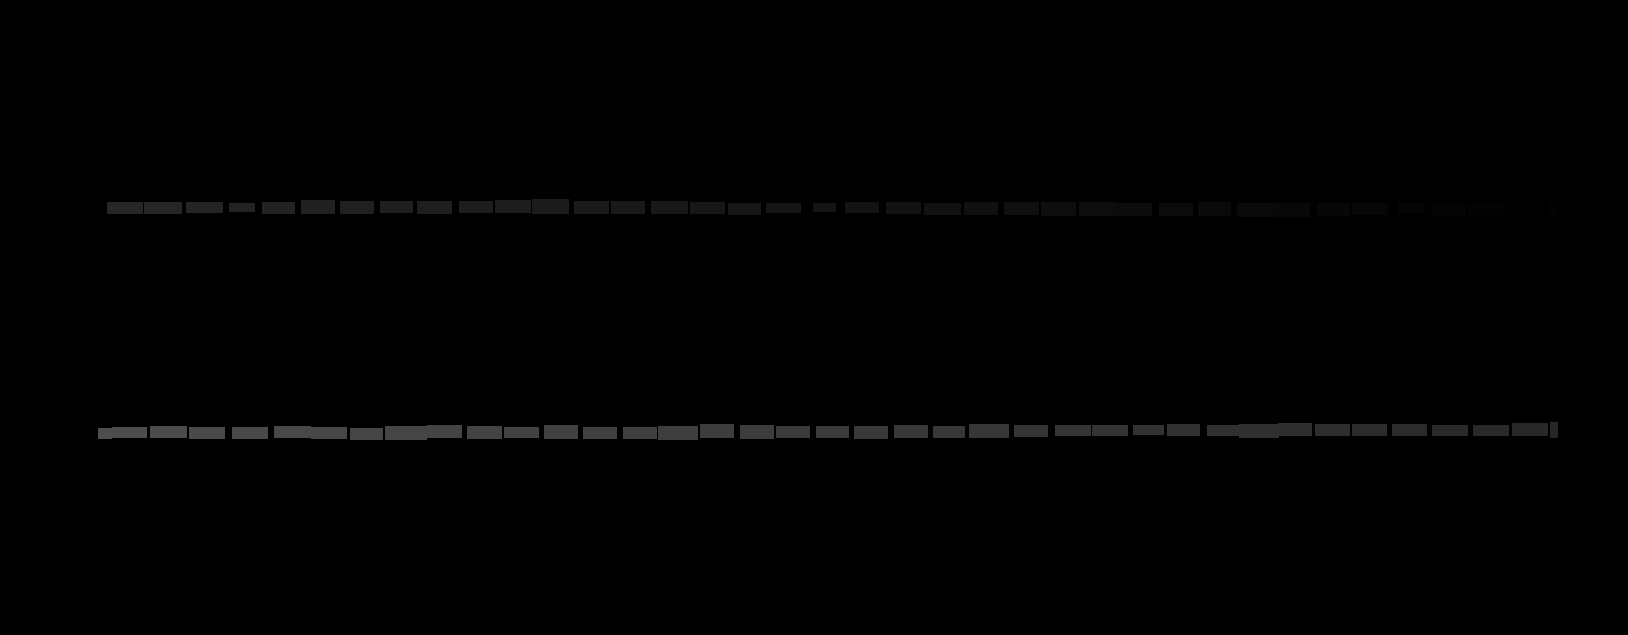light: (385, 426, 427, 440), (1239, 424, 1279, 438), (969, 424, 1009, 438), (532, 199, 569, 214), (658, 426, 698, 440), (1237, 203, 1275, 217), (1079, 202, 1117, 216), (1275, 203, 1310, 217), (651, 201, 688, 214), (1041, 202, 1076, 216), (301, 200, 335, 214), (700, 424, 734, 438), (544, 425, 578, 439), (1512, 423, 1548, 436), (1198, 202, 1231, 216), (740, 425, 774, 439), (1117, 203, 1152, 216), (1004, 202, 1039, 215), (574, 201, 609, 214), (495, 200, 531, 213), (427, 425, 462, 438), (1510, 202, 1544, 215), (1159, 203, 1193, 216), (964, 202, 998, 215), (924, 203, 961, 215), (610, 201, 645, 214), (417, 201, 452, 214), (340, 201, 374, 214), (144, 202, 182, 214), (1278, 423, 1312, 436), (894, 425, 928, 438), (467, 426, 501, 439), (274, 426, 311, 438), (150, 426, 187, 438), (1352, 203, 1388, 215), (107, 202, 143, 214), (232, 427, 268, 439), (189, 427, 225, 439), (1432, 203, 1465, 216), (1317, 203, 1350, 216), (854, 426, 888, 439), (350, 427, 383, 440), (1468, 203, 1503, 215), (886, 202, 921, 214), (1352, 424, 1387, 436), (311, 427, 347, 439), (690, 202, 725, 214), (459, 201, 493, 213), (1392, 424, 1427, 436), (1315, 424, 1350, 436), (776, 426, 810, 438), (623, 427, 657, 439), (186, 202, 223, 213), (728, 203, 761, 215), (380, 201, 413, 213), (262, 202, 295, 214), (1167, 424, 1200, 436), (1014, 425, 1048, 437), (816, 426, 849, 438), (584, 427, 617, 439), (1432, 425, 1468, 436), (1055, 425, 1091, 436), (1473, 425, 1509, 436), (1092, 425, 1128, 436), (504, 427, 539, 438), (112, 427, 147, 438), (845, 202, 879, 213), (933, 426, 965, 438), (1208, 425, 1241, 436), (766, 203, 801, 213), (1133, 425, 1164, 435), (1398, 203, 1424, 213), (229, 203, 255, 212), (813, 203, 836, 212), (98, 427, 112, 439), (1548, 202, 1558, 216), (1550, 422, 1558, 438)
